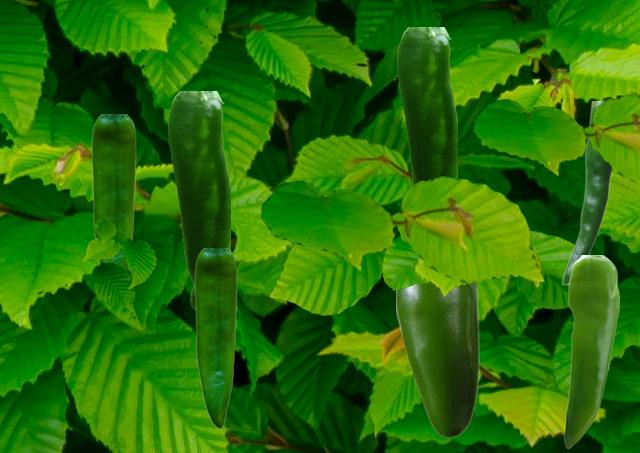green_chili: (168, 91, 229, 309), (396, 283, 478, 437), (564, 255, 618, 447), (561, 101, 612, 284), (397, 27, 456, 183), (194, 248, 236, 427), (91, 114, 135, 268)
